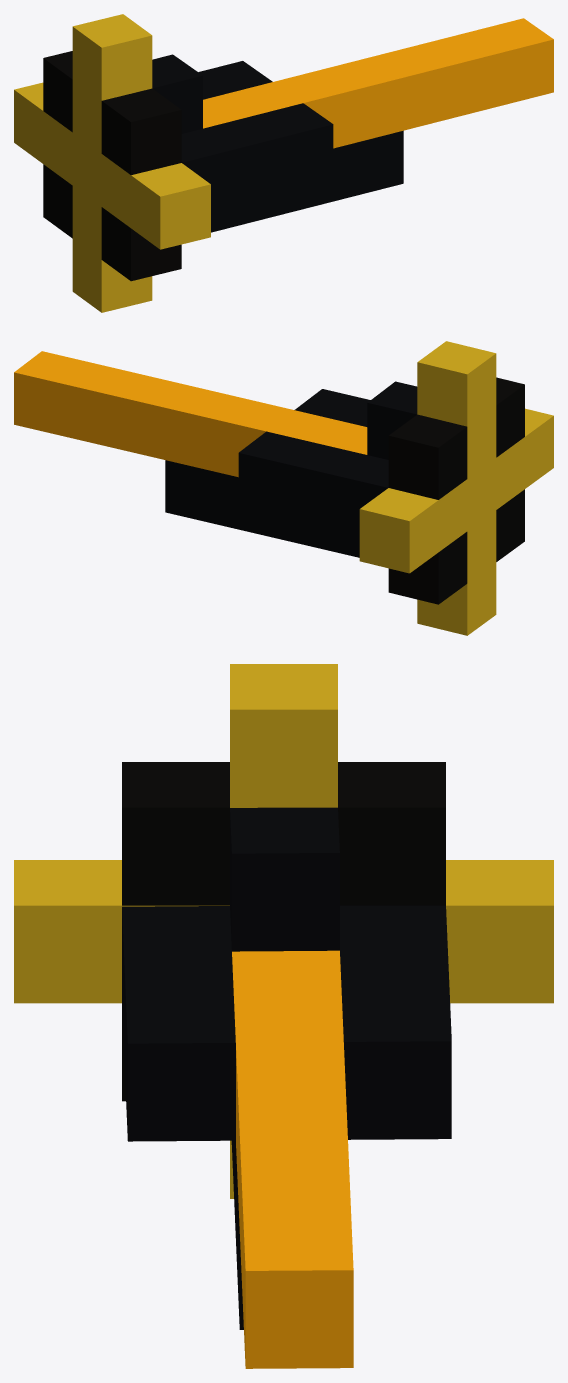
The model's file is LaserSmall1.FBX.
3 views of the same model, one above another, from view 1: azimuth 30°, elevation 25°; view 2: azimuth 150°, elevation 25°; view 3: azimuth 270°, elevation 25° (orthographic). The views are drawn at different scales.
Visible parts, largest first — view 1: LaserSmall1Turret, LaserSmall1Base; view 2: LaserSmall1Turret, LaserSmall1Base; view 3: LaserSmall1Turret, LaserSmall1Base.
Part boxes in pixels (x1=…): LaserSmall1Turret: x1=152, y1=18, x2=553, y2=232; LaserSmall1Base: x1=14, y1=14, x2=210, y2=312; LaserSmall1Turret: x1=14, y1=351, x2=417, y2=557; LaserSmall1Base: x1=359, y1=341, x2=553, y2=635; LaserSmall1Turret: x1=122, y1=807, x2=451, y2=1368; LaserSmall1Base: x1=14, y1=664, x2=553, y2=1198.
Size of the model in its own units: 9.01 by 5 by 5.
